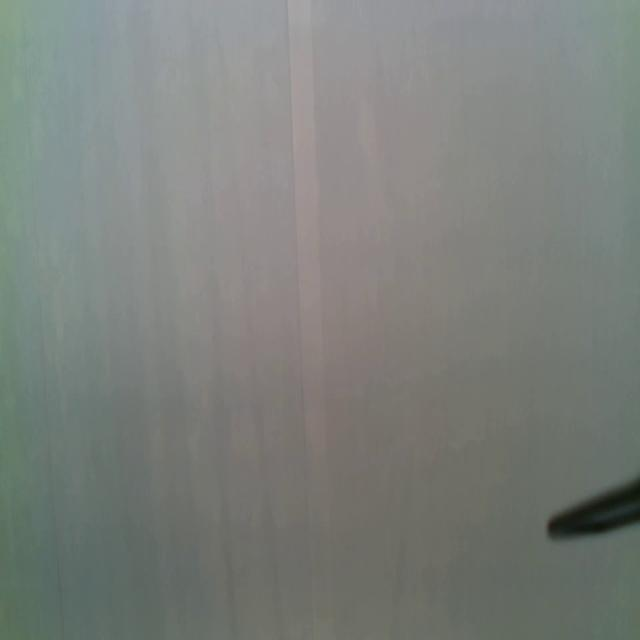crease: (21, 0, 66, 638), (286, 0, 312, 567)
